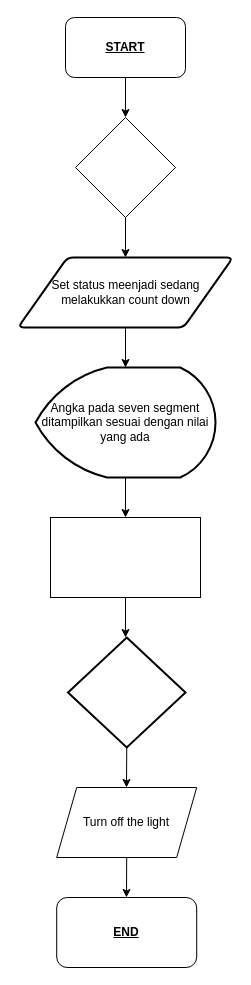
Some shapes in this 251 by 985 pixel diagram are drawn without their labels. The shapes that lost their labels are listed below. From the top down, each one's centre as x and y in pixels, then its label:
At pixel 125 167: "Cetak tombol ya/tidak".
At pixel 125 557: "Nilai pada seven segment dikurangi 1".
At pixel 126 692: "Apakah nilai <=0?".
